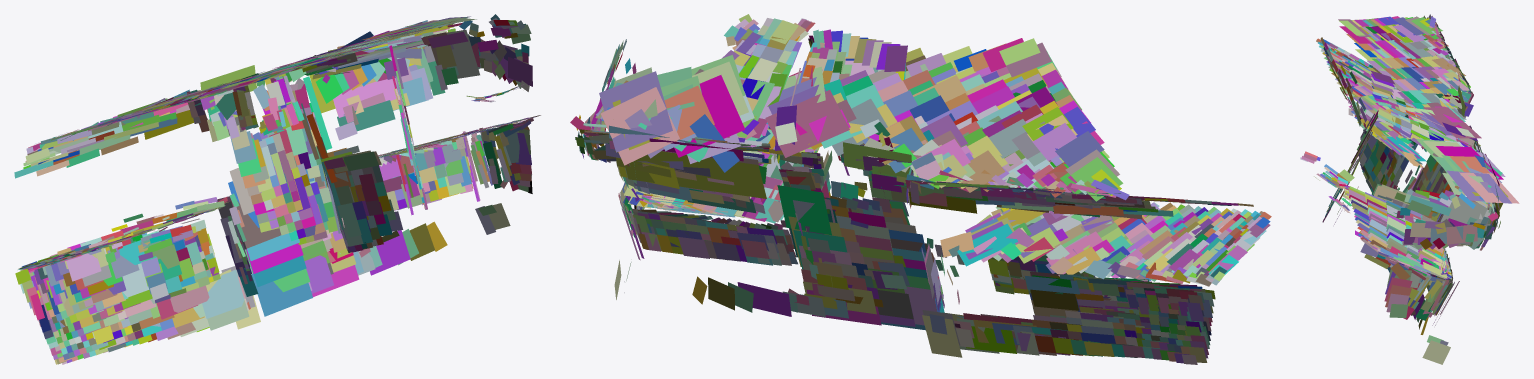
Rendered from planarSplat_rawPrims_normalized_colorPrim.glb.
The picture shows the model from 3 angles, left to right: view 1: azimuth 30°, elevation 25°; view 2: azimuth 150°, elevation 25°; view 3: azimuth 270°, elevation 25°; orthographic projection. The views are drawn at different scales.
Visible parts, largest first — view 1: planarSplat_rawPrims_normalized_colorPrim.ply; view 2: planarSplat_rawPrims_normalized_colorPrim.ply; view 3: planarSplat_rawPrims_normalized_colorPrim.ply.
Boxes of the visible parts, left/top/right/bottom form: planarSplat_rawPrims_normalized_colorPrim.ply: left=14, top=14, right=540, bottom=364; planarSplat_rawPrims_normalized_colorPrim.ply: left=570, top=14, right=1271, bottom=364; planarSplat_rawPrims_normalized_colorPrim.ply: left=1300, top=14, right=1519, bottom=364.
Bounding box in the file's own units: 4.21 × 2.04 × 1.82.
